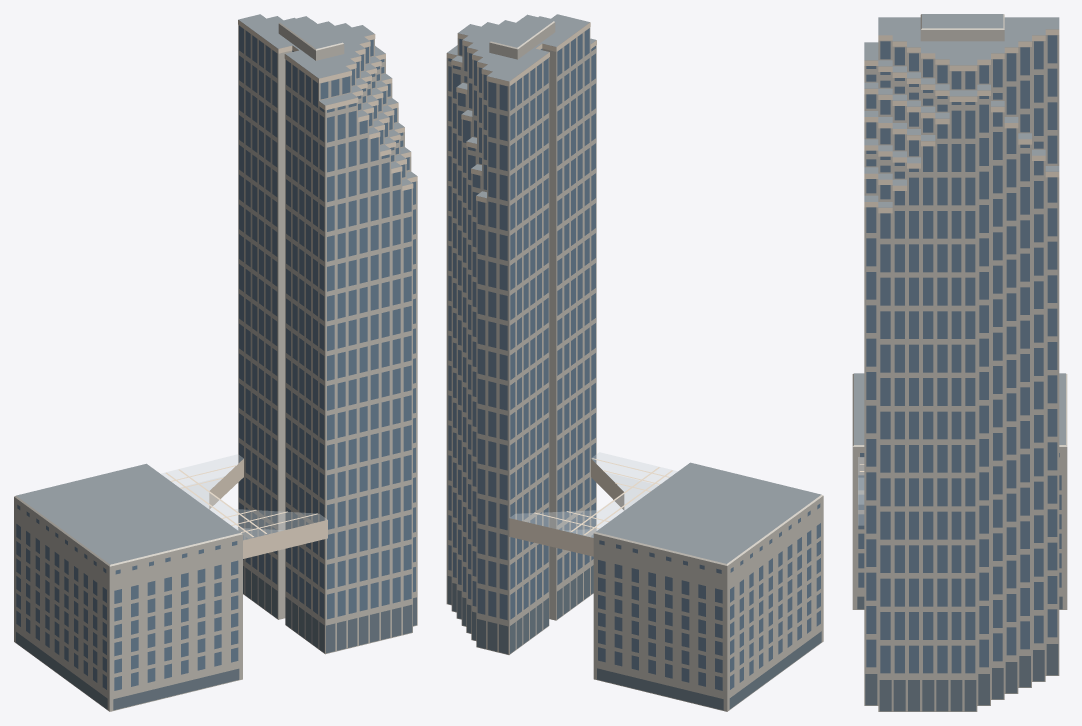
Rendered from mia-southeast-financial-center.glb.
The picture shows the model from 3 angles, left to right: view 1: azimuth 30°, elevation 25°; view 2: azimuth 150°, elevation 25°; view 3: azimuth 270°, elevation 25°; orthographic projection. The views are drawn at different scales.
Parts seen in each view (by area): view 1: Southeast Financial Center; view 2: Southeast Financial Center; view 3: Southeast Financial Center.
Boxes of the visible parts, box(x1,y1,x2,y2) form: Southeast Financial Center: box(14, 14, 417, 711); Southeast Financial Center: box(446, 14, 823, 711); Southeast Financial Center: box(852, 14, 1067, 711).
Size of the model in its own units: 135 by 234 by 70.02.
